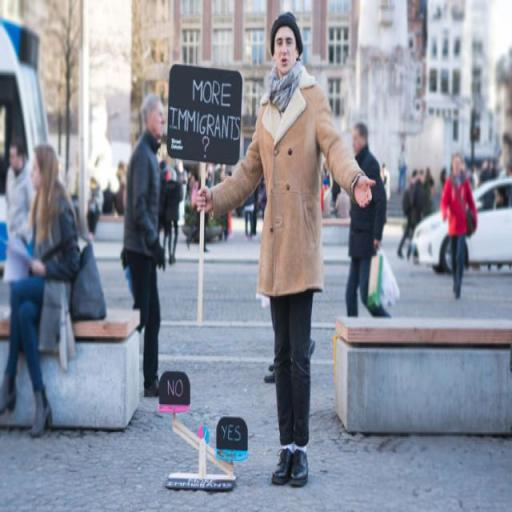person: (198, 13, 378, 488), (5, 140, 80, 438), (123, 90, 171, 396), (347, 120, 391, 322), (443, 153, 479, 299), (6, 141, 35, 282), (400, 168, 419, 262), (167, 169, 182, 264), (396, 139, 410, 197)
